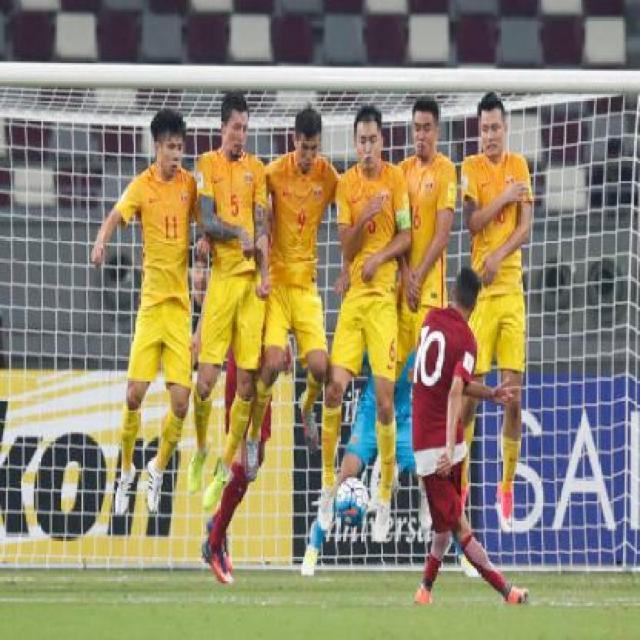ball: (331, 476, 370, 530)
player: (92, 113, 203, 527), (407, 269, 529, 611), (315, 105, 411, 534), (251, 106, 347, 479), (180, 95, 269, 491), (465, 89, 541, 514), (392, 91, 457, 300)
